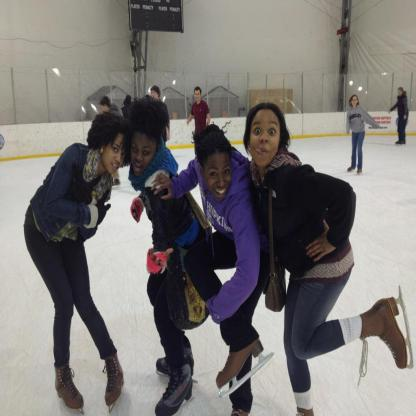face: (251, 110, 281, 167), (206, 154, 233, 201), (132, 134, 157, 177), (106, 134, 126, 175), (196, 90, 201, 102), (352, 97, 358, 107), (152, 90, 158, 99), (102, 104, 106, 111), (399, 90, 402, 96)
